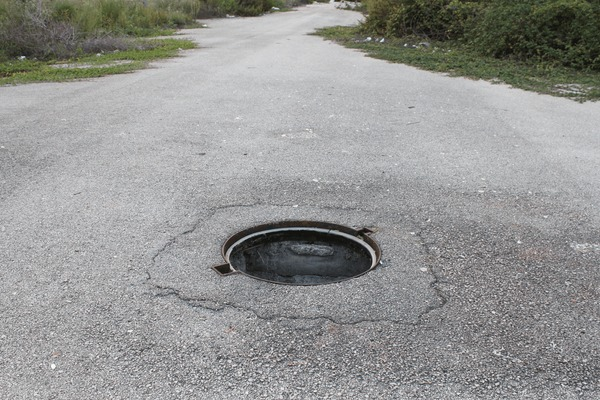open_manhole: (195, 209, 387, 300)
